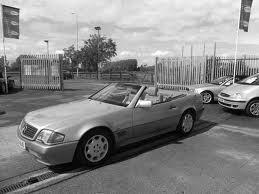car: (18, 84, 205, 167)
